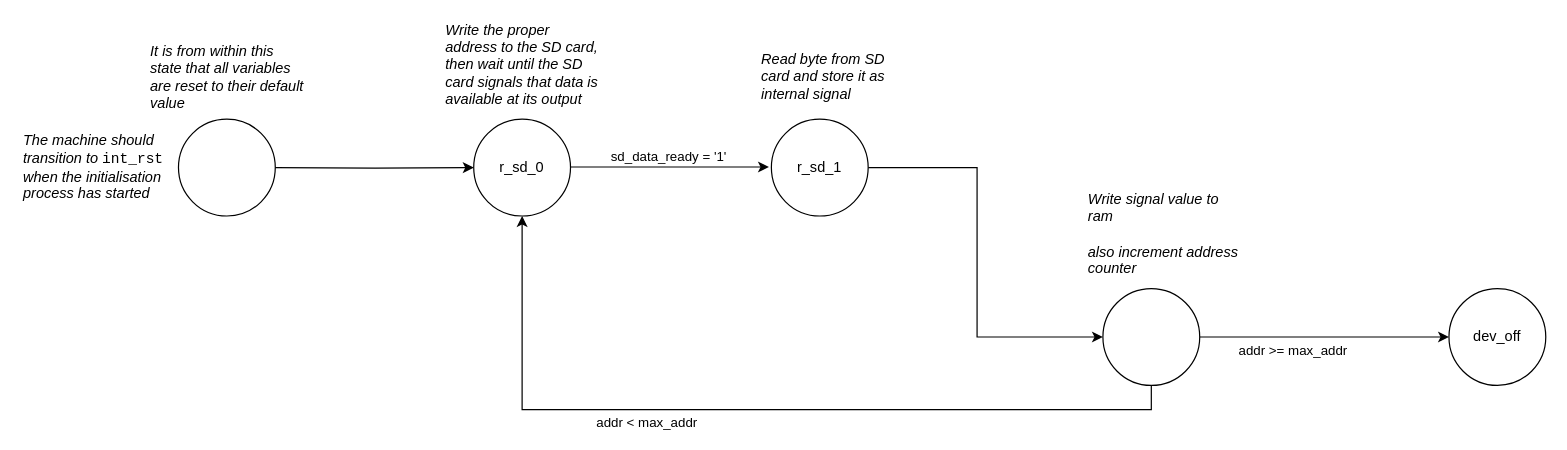
The diagram is 1567 pixels wide and 450 high, and some of its shapes have lost their labels. The box of each missing label's shape, as (x1, y1, x2, y2) in pixels:
int_rst: (177, 118, 275, 216)
w_ram: (1102, 287, 1200, 385)
